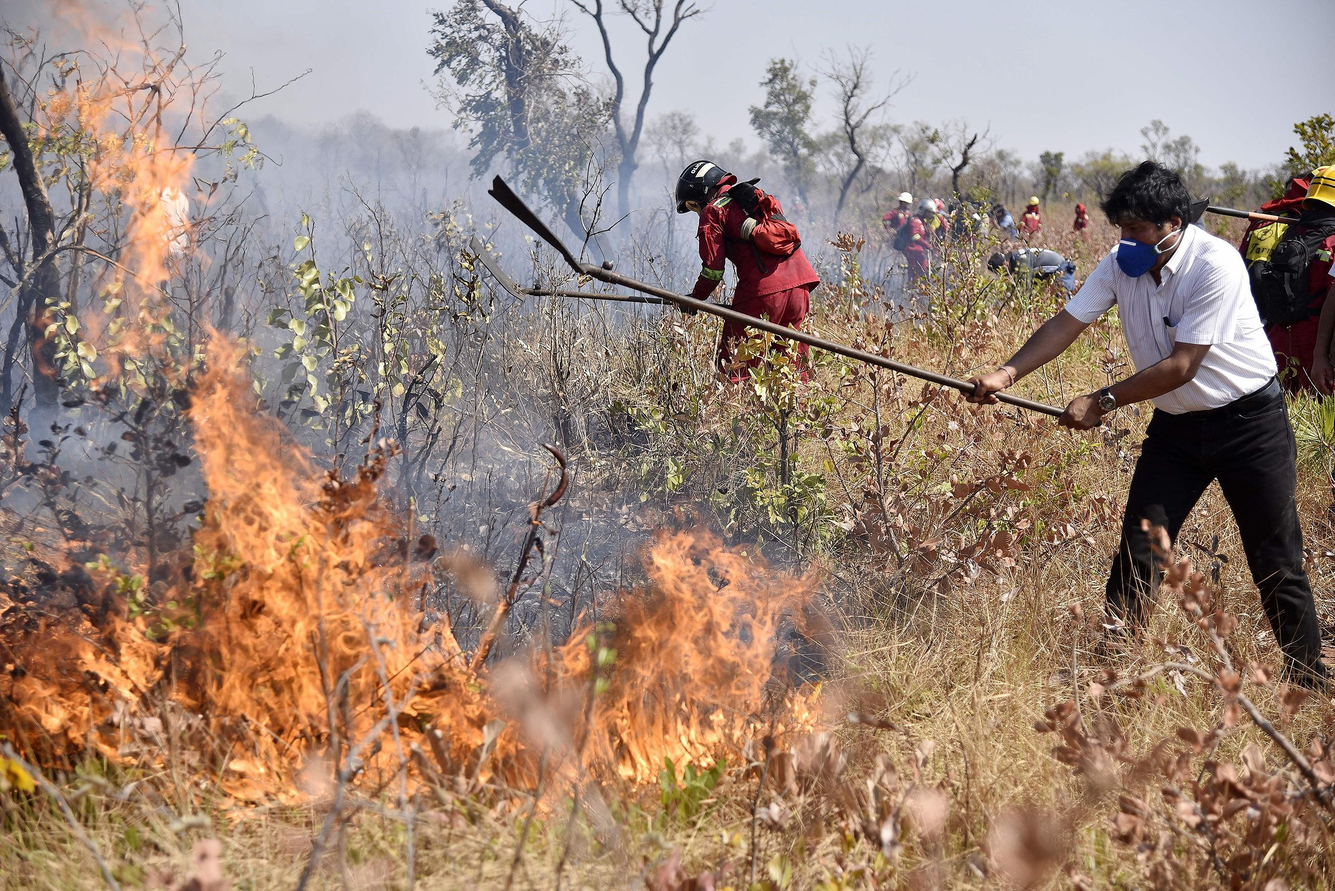victim: (976, 173, 1327, 696), (655, 156, 836, 400), (886, 173, 937, 308)
